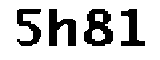1: (118, 6, 150, 50)
5: (13, 5, 43, 49)
8: (82, 7, 116, 51)
h: (46, 6, 79, 52)
